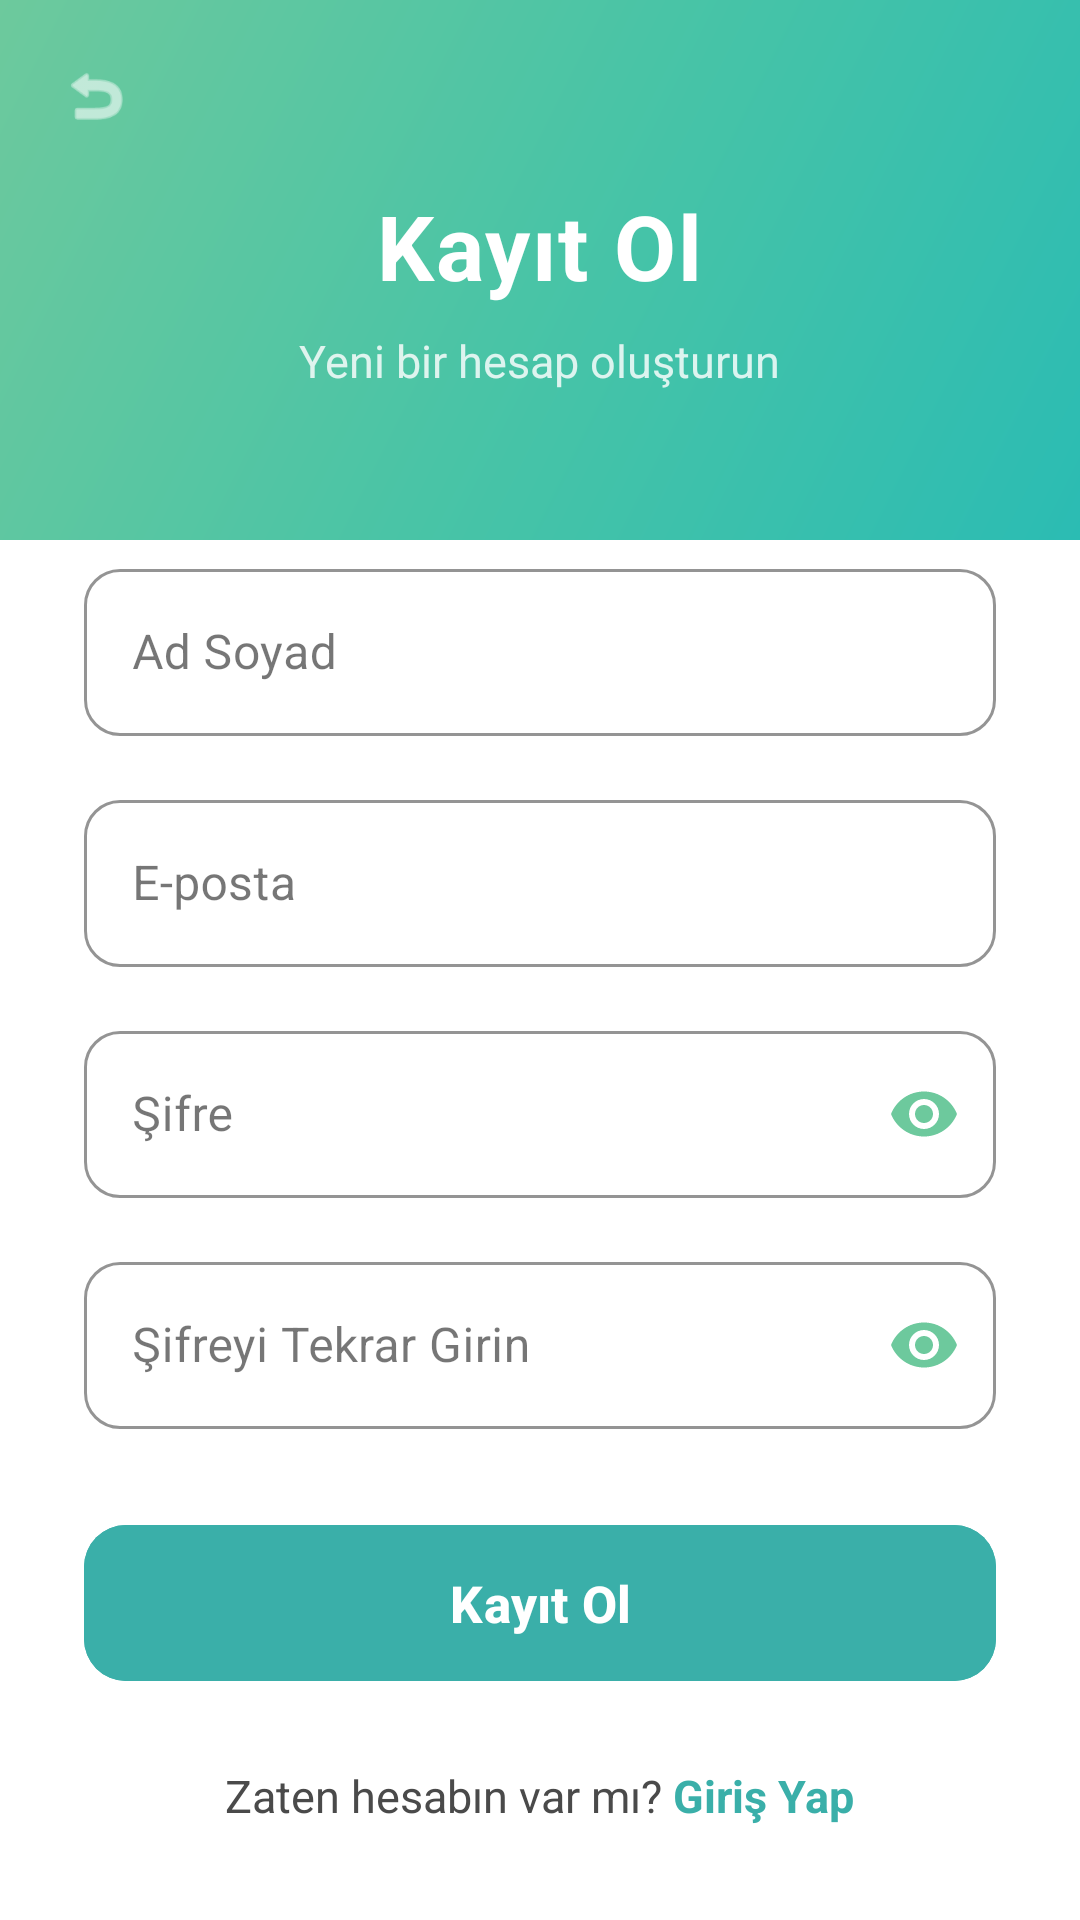

Screen size 1080x1920. Icon name, then its box in pixels as {"x1": x1, "y1": y1, "x2": x2, "y2": y2}:
Geri: {"x1": 71, "y1": 73, "x2": 123, "y2": 120}
